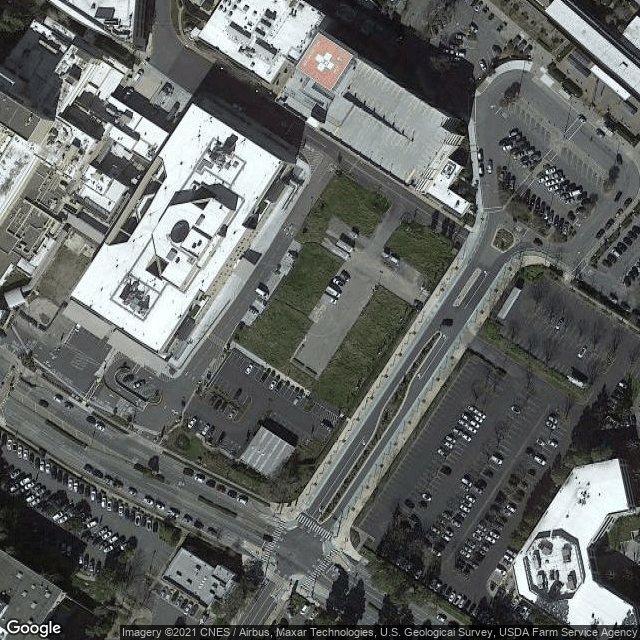Helipad: (290, 28, 356, 93)
